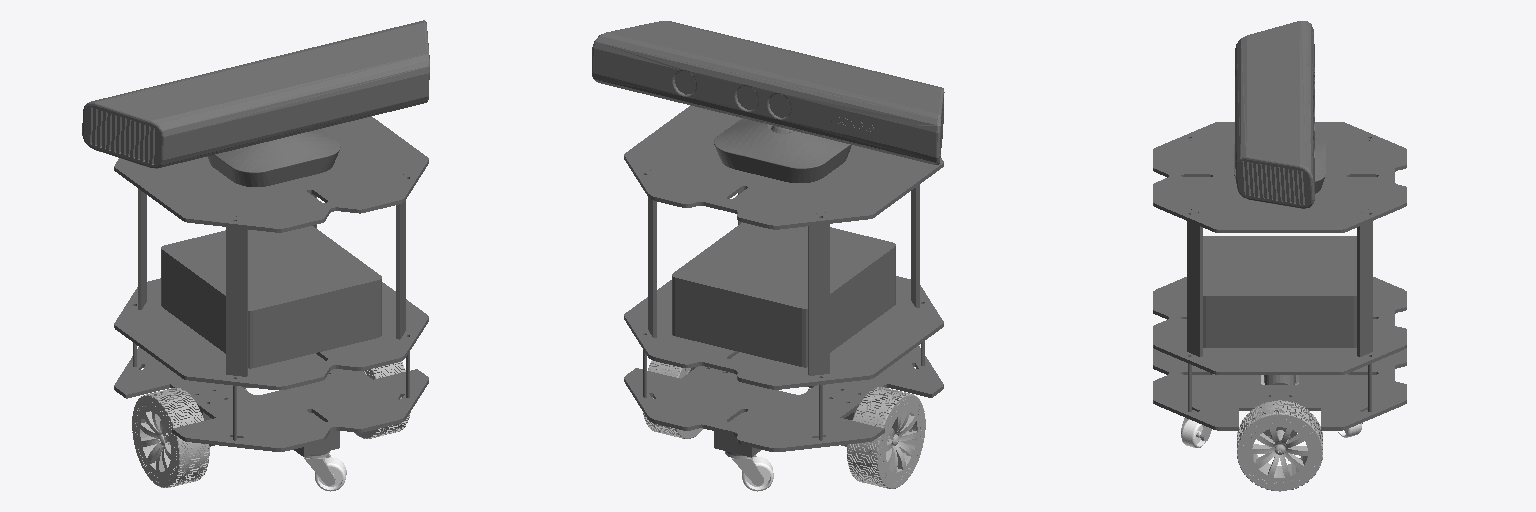
URDF robot description (slam_bot):
<?xml version="1.0" encoding="utf-8"?>
<!-- This URDF was automatically created by SolidWorks to URDF Exporter! Originally created by [author] ([email redacted]) 
     Commit Version: 1.6.0-1-g15f4949  Build Version: 1.6.7594.29634
     For more information, please see http://wiki.ros.org/sw_urdf_exporter -->
<robot
  name="slam_bot">
  <link
    name="base_link">
    <inertial>
      <origin
        xyz="-1.7489E-05 -0.00049303 0.12274"
        rpy="0 0 0" />
      <mass
        value="1.7054" />
      <inertia
        ixx="0.0020629"
        ixy="9.3564E-07"
        ixz="4.3627E-08"
        iyy="0.0045809"
        iyz="-5.7177E-06"
        izz="0.0062217" />
    </inertial>
    <visual>
      <origin
        xyz="0 0 0"
        rpy="0 0 0" />
      <geometry>
        <mesh
          filename="package://slam_bot/meshes/base_link.STL" />
      </geometry>
      <material
        name="">
        <color
          rgba="0.49804 0.49804 0.49804 1" />
      </material>
    </visual>
    <collision>
      <origin
        xyz="0 0 0"
        rpy="0 0 0" />
      <geometry>
        <mesh
          filename="package://slam_bot/meshes/base_link.STL" />
      </geometry>
    </collision>
  </link>
  <link
    name="left_wheel_link">
    <inertial>
      <origin
        xyz="-0.000366440701438736 -5.19104554896899E-08 -2.5962816660452E-08"
        rpy="0 0 0" />
      <mass
        value="0.0338741252753089" />
      <inertia
        ixx="2.32972128267653E-05"
        ixy="-5.14344193952486E-12"
        ixz="-4.43613850658384E-12"
        iyy="1.26336871199194E-05"
        iyz="-4.23491351065063E-10"
        izz="1.26329065025615E-05" />
    </inertial>
    <visual>
      <origin
        xyz="0 0 0"
        rpy="0 0 0" />
      <geometry>
        <mesh
          filename="package://slam_bot/meshes/left_wheel_link.STL" />
      </geometry>
      <material
        name="">
        <color
          rgba="0.752941176470588 0.752941176470588 0.752941176470588 1" />
      </material>
    </visual>
    <collision>
      <origin
        xyz="0 0 0"
        rpy="0 0 0" />
      <geometry>
        <mesh
          filename="package://slam_bot/meshes/left_wheel_link.STL" />
      </geometry>
    </collision>
  </link>
  <joint
    name="left_wheel_joint"
    type="continuous">
    <origin
      xyz="-0.08244 0.00044127 -0.0245"
      rpy="0 0 0" />
    <parent
      link="base_link" />
    <child
      link="left_wheel_link" />
    <axis
      xyz="-1 0 0" />
  </joint>
  <link
    name="right_wheel_link">
    <inertial>
      <origin
        xyz="0.000366440701435697 -3.25177562376933E-08 4.80762121987666E-08"
        rpy="0 0 0" />
      <mass
        value="0.033874125275309" />
      <inertia
        ixx="2.32972128267653E-05"
        ixy="2.30833895149757E-12"
        ixz="-6.38794890313064E-12"
        iyy="1.26338614201861E-05"
        iyz="-1.13589294659243E-10"
        izz="1.26327322022949E-05" />
    </inertial>
    <visual>
      <origin
        xyz="0 0 0"
        rpy="0 0 0" />
      <geometry>
        <mesh
          filename="package://slam_bot/meshes/right_wheel_link.STL" />
      </geometry>
      <material
        name="">
        <color
          rgba="0.752941176470588 0.752941176470588 0.752941176470588 1" />
      </material>
    </visual>
    <collision>
      <origin
        xyz="0 0 0"
        rpy="0 0 0" />
      <geometry>
        <mesh
          filename="package://slam_bot/meshes/right_wheel_link.STL" />
      </geometry>
    </collision>
  </link>
  <joint
    name="right_wheel_joint"
    type="continuous">
    <origin
      xyz="0.08244 0.00044127 -0.0245"
      rpy="0 0 0" />
    <parent
      link="base_link" />
    <child
      link="right_wheel_link" />
    <axis
      xyz="-1 0 0" />
  </joint>
  <link
    name="front_caster_frame_link">
    <inertial>
      <origin
        xyz="0.00348441243526642 0.00224005174745512 -0.00790866964198877"
        rpy="0 0 0" />
      <mass
        value="0.00300582274036254" />
      <inertia
        ixx="2.92826786865183E-07"
        ixy="2.569429152066E-08"
        ixz="7.89644152062036E-08"
        iyy="2.69377471585607E-07"
        iyz="5.07644773838694E-08"
        izz="2.68764631211896E-07" />
    </inertial>
    <visual>
      <origin
        xyz="0 0 0"
        rpy="0 0 0" />
      <geometry>
        <mesh
          filename="package://slam_bot/meshes/front_caster_frame_link.STL" />
      </geometry>
      <material
        name="">
        <color
          rgba="0.752941176470588 0.752941176470588 0.752941176470588 1" />
      </material>
    </visual>
    <collision>
      <origin
        xyz="0 0 0"
        rpy="0 0 0" />
      <geometry>
        <mesh
          filename="package://slam_bot/meshes/front_caster_frame_link.STL" />
      </geometry>
    </collision>
  </link>
  <joint
    name="front_caster_frame_joint"
    type="continuous">
    <origin
      xyz="0 0.060441 -0.0285"
      rpy="0 0 3.1416" />
    <parent
      link="base_link" />
    <child
      link="front_caster_frame_link" />
    <axis
      xyz="0 0 -1" />
  </joint>
  <link
    name="front_caster_wheel_link">
    <inertial>
      <origin
        xyz="3.40005801291454E-14 2.64510635616944E-14 6.80011602582908E-14"
        rpy="0 0 0" />
      <mass
        value="0.00247954599104152" />
      <inertia
        ixx="1.83802193681604E-07"
        ixy="1.75362289861233E-22"
        ixz="-3.80704142361078E-23"
        iyy="1.14854546808248E-07"
        iyz="-1.26360212135229E-23"
        izz="1.14854546808248E-07" />
    </inertial>
    <visual>
      <origin
        xyz="0 0 0"
        rpy="0 0 0" />
      <geometry>
        <mesh
          filename="package://slam_bot/meshes/front_caster_wheel_link.STL" />
      </geometry>
      <material
        name="">
        <color
          rgba="1 1 1 1" />
      </material>
    </visual>
    <collision>
      <origin
        xyz="0 0 0"
        rpy="0 0 0" />
      <geometry>
        <mesh
          filename="package://slam_bot/meshes/front_caster_wheel_link.STL" />
      </geometry>
    </collision>
  </link>
  <joint
    name="front_caster_wheel_joint"
    type="continuous">
    <origin
      xyz="0.009885 0.0063548 -0.019"
      rpy="0 0 -0.99944" />
    <parent
      link="front_caster_frame_link" />
    <child
      link="front_caster_wheel_link" />
    <axis
      xyz="-1 0 0" />
  </joint>
  <link
    name="back_caster_frame_link">
    <inertial>
      <origin
        xyz="-0.00342931073113072 0.00232352959157259 -0.00790866964286974"
        rpy="0 0 0" />
      <mass
        value="0.00300582274036254" />
      <inertia
        ixx="2.91572704496389E-07"
        ixy="-2.62303501122907E-08"
        ixz="-7.77156899272754E-08"
        iyy="2.70631553954401E-07"
        iyz="5.26562681173162E-08"
        izz="2.68764631211896E-07" />
    </inertial>
    <visual>
      <origin
        xyz="0 0 0"
        rpy="0 0 0" />
      <geometry>
        <mesh
          filename="package://slam_bot/meshes/back_caster_frame_link.STL" />
      </geometry>
      <material
        name="">
        <color
          rgba="0.752941176470588 0.752941176470588 0.752941176470588 1" />
      </material>
    </visual>
    <collision>
      <origin
        xyz="0 0 0"
        rpy="0 0 0" />
      <geometry>
        <mesh
          filename="package://slam_bot/meshes/back_caster_frame_link.STL" />
      </geometry>
    </collision>
  </link>
  <joint
    name="back_caster_frame_joint"
    type="continuous">
    <origin
      xyz="0 -0.059559 -0.0285"
      rpy="0 0 3.1416" />
    <parent
      link="base_link" />
    <child
      link="back_caster_frame_link" />
    <axis
      xyz="0 0 -1" />
  </joint>
  <link
    name="back_caster_wheel_link">
    <inertial>
      <origin
        xyz="-9.95037385820297E-15 -6.75848266240564E-15 6.64017452134402E-14"
        rpy="0 0 0" />
      <mass
        value="0.00247954599104152" />
      <inertia
        ixx="1.83802193681604E-07"
        ixy="-5.95570041038104E-23"
        ixz="-8.52214753953738E-24"
        iyy="1.14854546808247E-07"
        iyz="5.16539675591825E-25"
        izz="1.14854546808247E-07" />
    </inertial>
    <visual>
      <origin
        xyz="0 0 0"
        rpy="0 0 0" />
      <geometry>
        <mesh
          filename="package://slam_bot/meshes/back_caster_wheel_link.STL" />
      </geometry>
      <material
        name="">
        <color
          rgba="1 1 1 1" />
      </material>
    </visual>
    <collision>
      <origin
        xyz="0 0 0"
        rpy="0 0 0" />
      <geometry>
        <mesh
          filename="package://slam_bot/meshes/back_caster_wheel_link.STL" />
      </geometry>
    </collision>
  </link>
  <joint
    name="back_caster_wheel_joint"
    type="continuous">
    <origin
      xyz="-0.0097287 0.0065916 -0.019"
      rpy="0 0 -2.1663" />
    <parent
      link="back_caster_frame_link" />
    <child
      link="back_caster_wheel_link" />
    <axis
      xyz="1 0 0" />
  </joint>
</robot>

--- Facts derived from the render (not from the file) ---
The picture shows the robot from 3 angles, left to right: view 1: azimuth 30°, elevation 25°; view 2: azimuth 150°, elevation 25°; view 3: azimuth 270°, elevation 25°; orthographic projection.
Model slam_bot with 7 links and 6 joints (6 continuous), rooted at base_link, posed every joint at zero.
Visible links, largest first — view 1: base_link, left_wheel_link, right_wheel_link, back_caster_wheel_link; view 2: base_link, left_wheel_link, right_wheel_link, front_caster_wheel_link; view 3: base_link, right_wheel_link.
Link boxes in pixels (bbox=[...]): base_link: bbox=[82, 20, 429, 456]; left_wheel_link: bbox=[132, 388, 209, 487]; right_wheel_link: bbox=[354, 361, 410, 438]; back_caster_wheel_link: bbox=[315, 457, 346, 491]; base_link: bbox=[592, 21, 944, 457]; left_wheel_link: bbox=[847, 387, 925, 488]; right_wheel_link: bbox=[643, 360, 702, 438]; front_caster_wheel_link: bbox=[742, 457, 773, 491]; base_link: bbox=[1153, 21, 1406, 439]; right_wheel_link: bbox=[1237, 400, 1322, 491].
Bounding box of the posed robot: 0.2794 × 0.2 × 0.3014 m (x, y, z).
Meshes: 7 distinct files referenced, 7 mesh visuals loaded (7 binary STL).